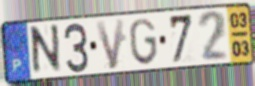2: (196, 10, 230, 65)
3: (61, 20, 89, 75)
7: (168, 13, 194, 66)
G: (127, 16, 160, 67)
N: (31, 22, 63, 79)
V: (93, 17, 126, 72)
